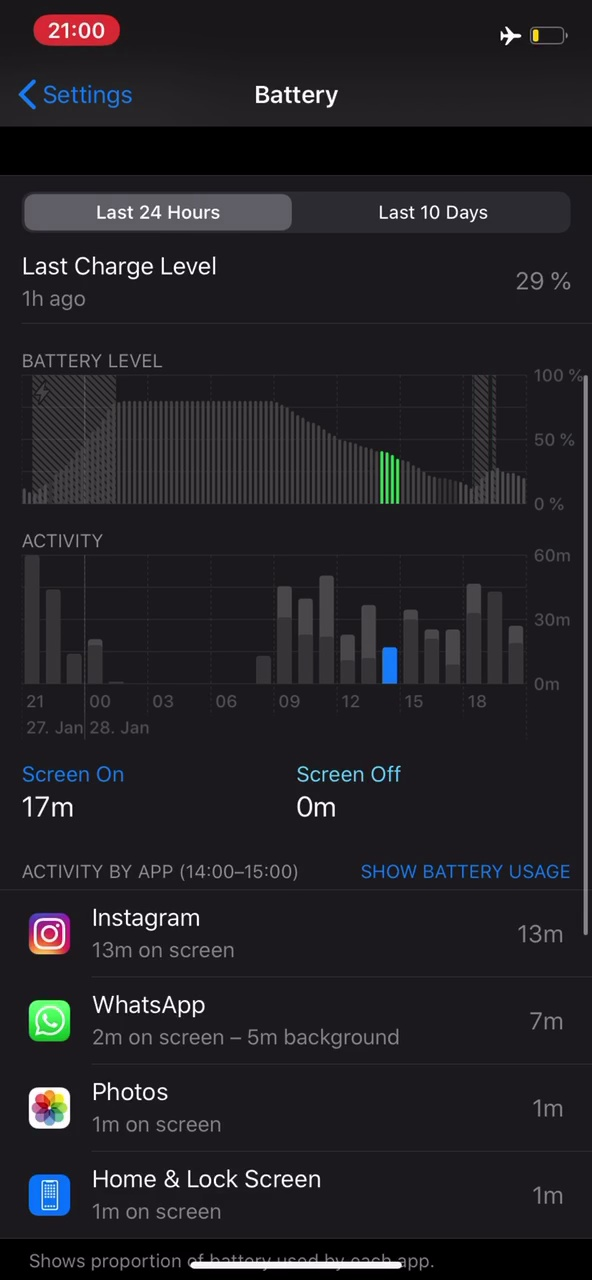activity: (9, 856, 300, 883)
app: (11, 903, 574, 973), (9, 983, 572, 1053), (16, 1077, 579, 1147), (12, 1163, 575, 1233)
